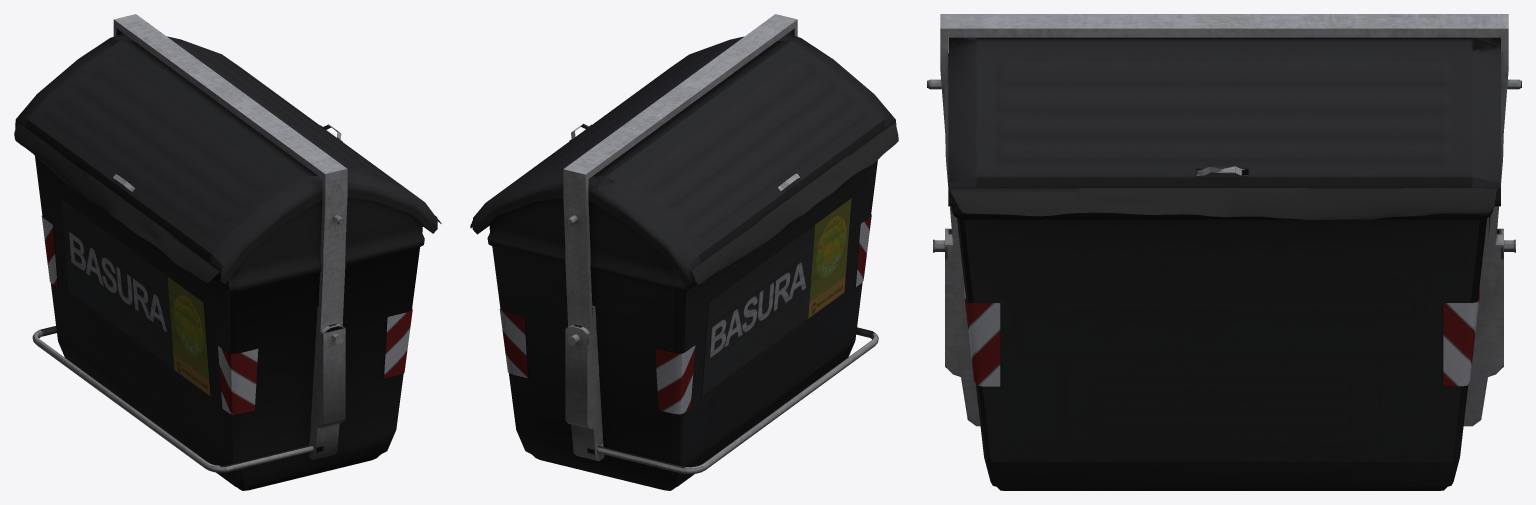
The model's file is dumpster.fbx.
3 views of the same model, side by side, from view 1: azimuth 30°, elevation 25°; view 2: azimuth 150°, elevation 25°; view 3: azimuth 270°, elevation 25° (orthographic). The views are drawn at different scales.
Parts seen in each view (by area): view 1: dumpster, door1, door2, handle; view 2: dumpster, door1, door2, handle; view 3: dumpster, door2.
Part boxes in pixels (x1,y1,x2,y2): dumpster: (35,14,424,490); door1: (14,33,322,284); door2: (167,36,441,233); handle: (32,326,313,472); dumpster: (487,14,877,490); door1: (588,33,898,284); door2: (470,36,743,234); handle: (596,327,878,474); dumpster: (927,14,1521,490); door2: (948,37,1500,219).
Bounding box in the file's own units: 8555 × 10807 × 13611.
Materials: 1 (1 with a texture image).
